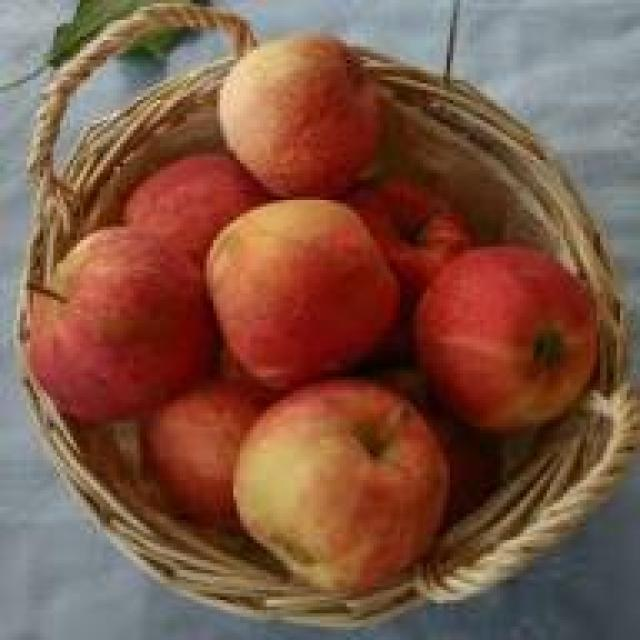apple: (240, 394, 450, 594), (207, 207, 420, 373), (33, 240, 227, 397), (414, 247, 594, 410), (216, 43, 376, 177), (107, 160, 263, 263), (343, 167, 477, 283), (154, 384, 264, 514)
